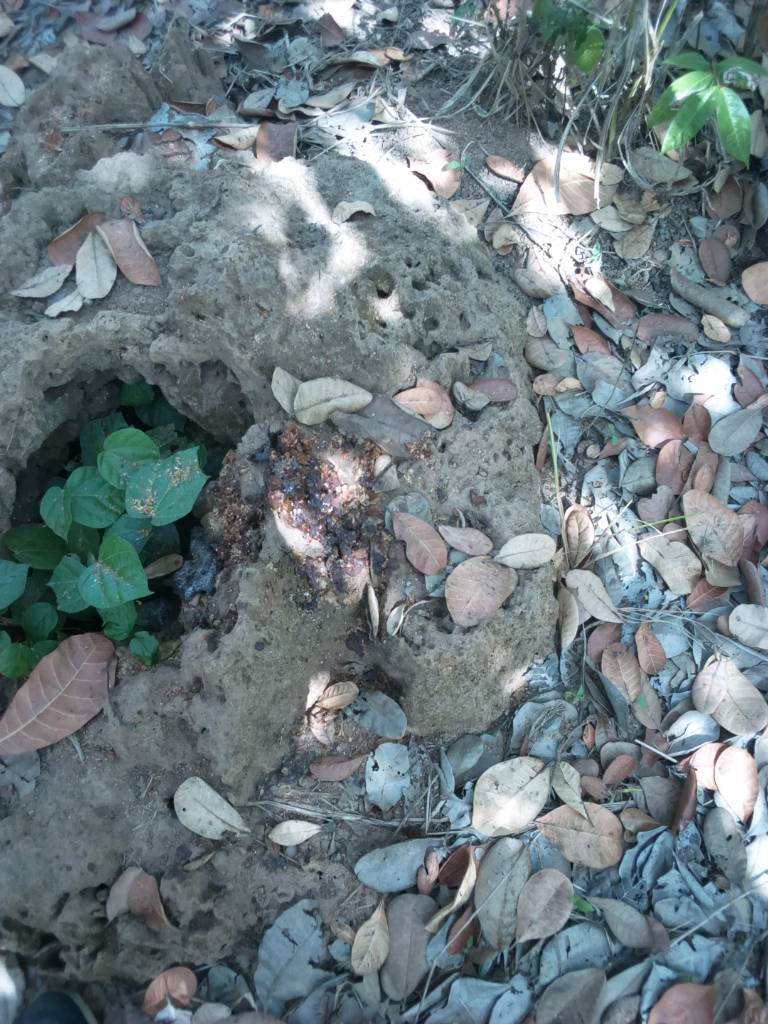Termites: (216, 133, 543, 719), (13, 200, 202, 357)
